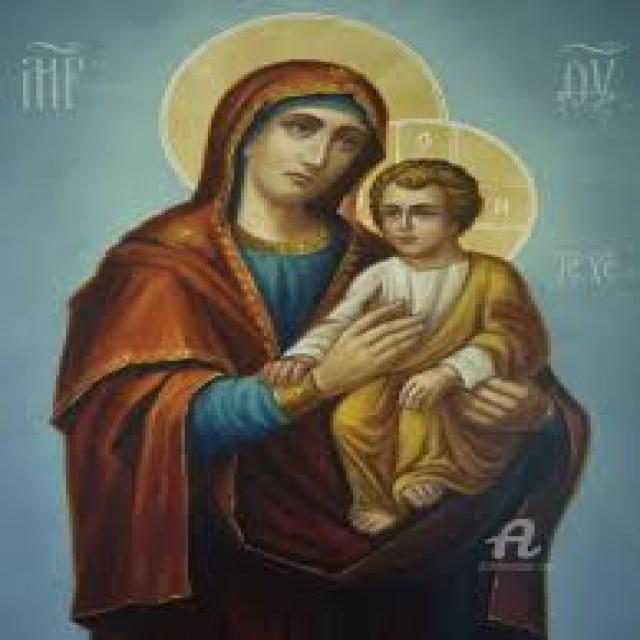mother of god: (36, 49, 602, 640)
